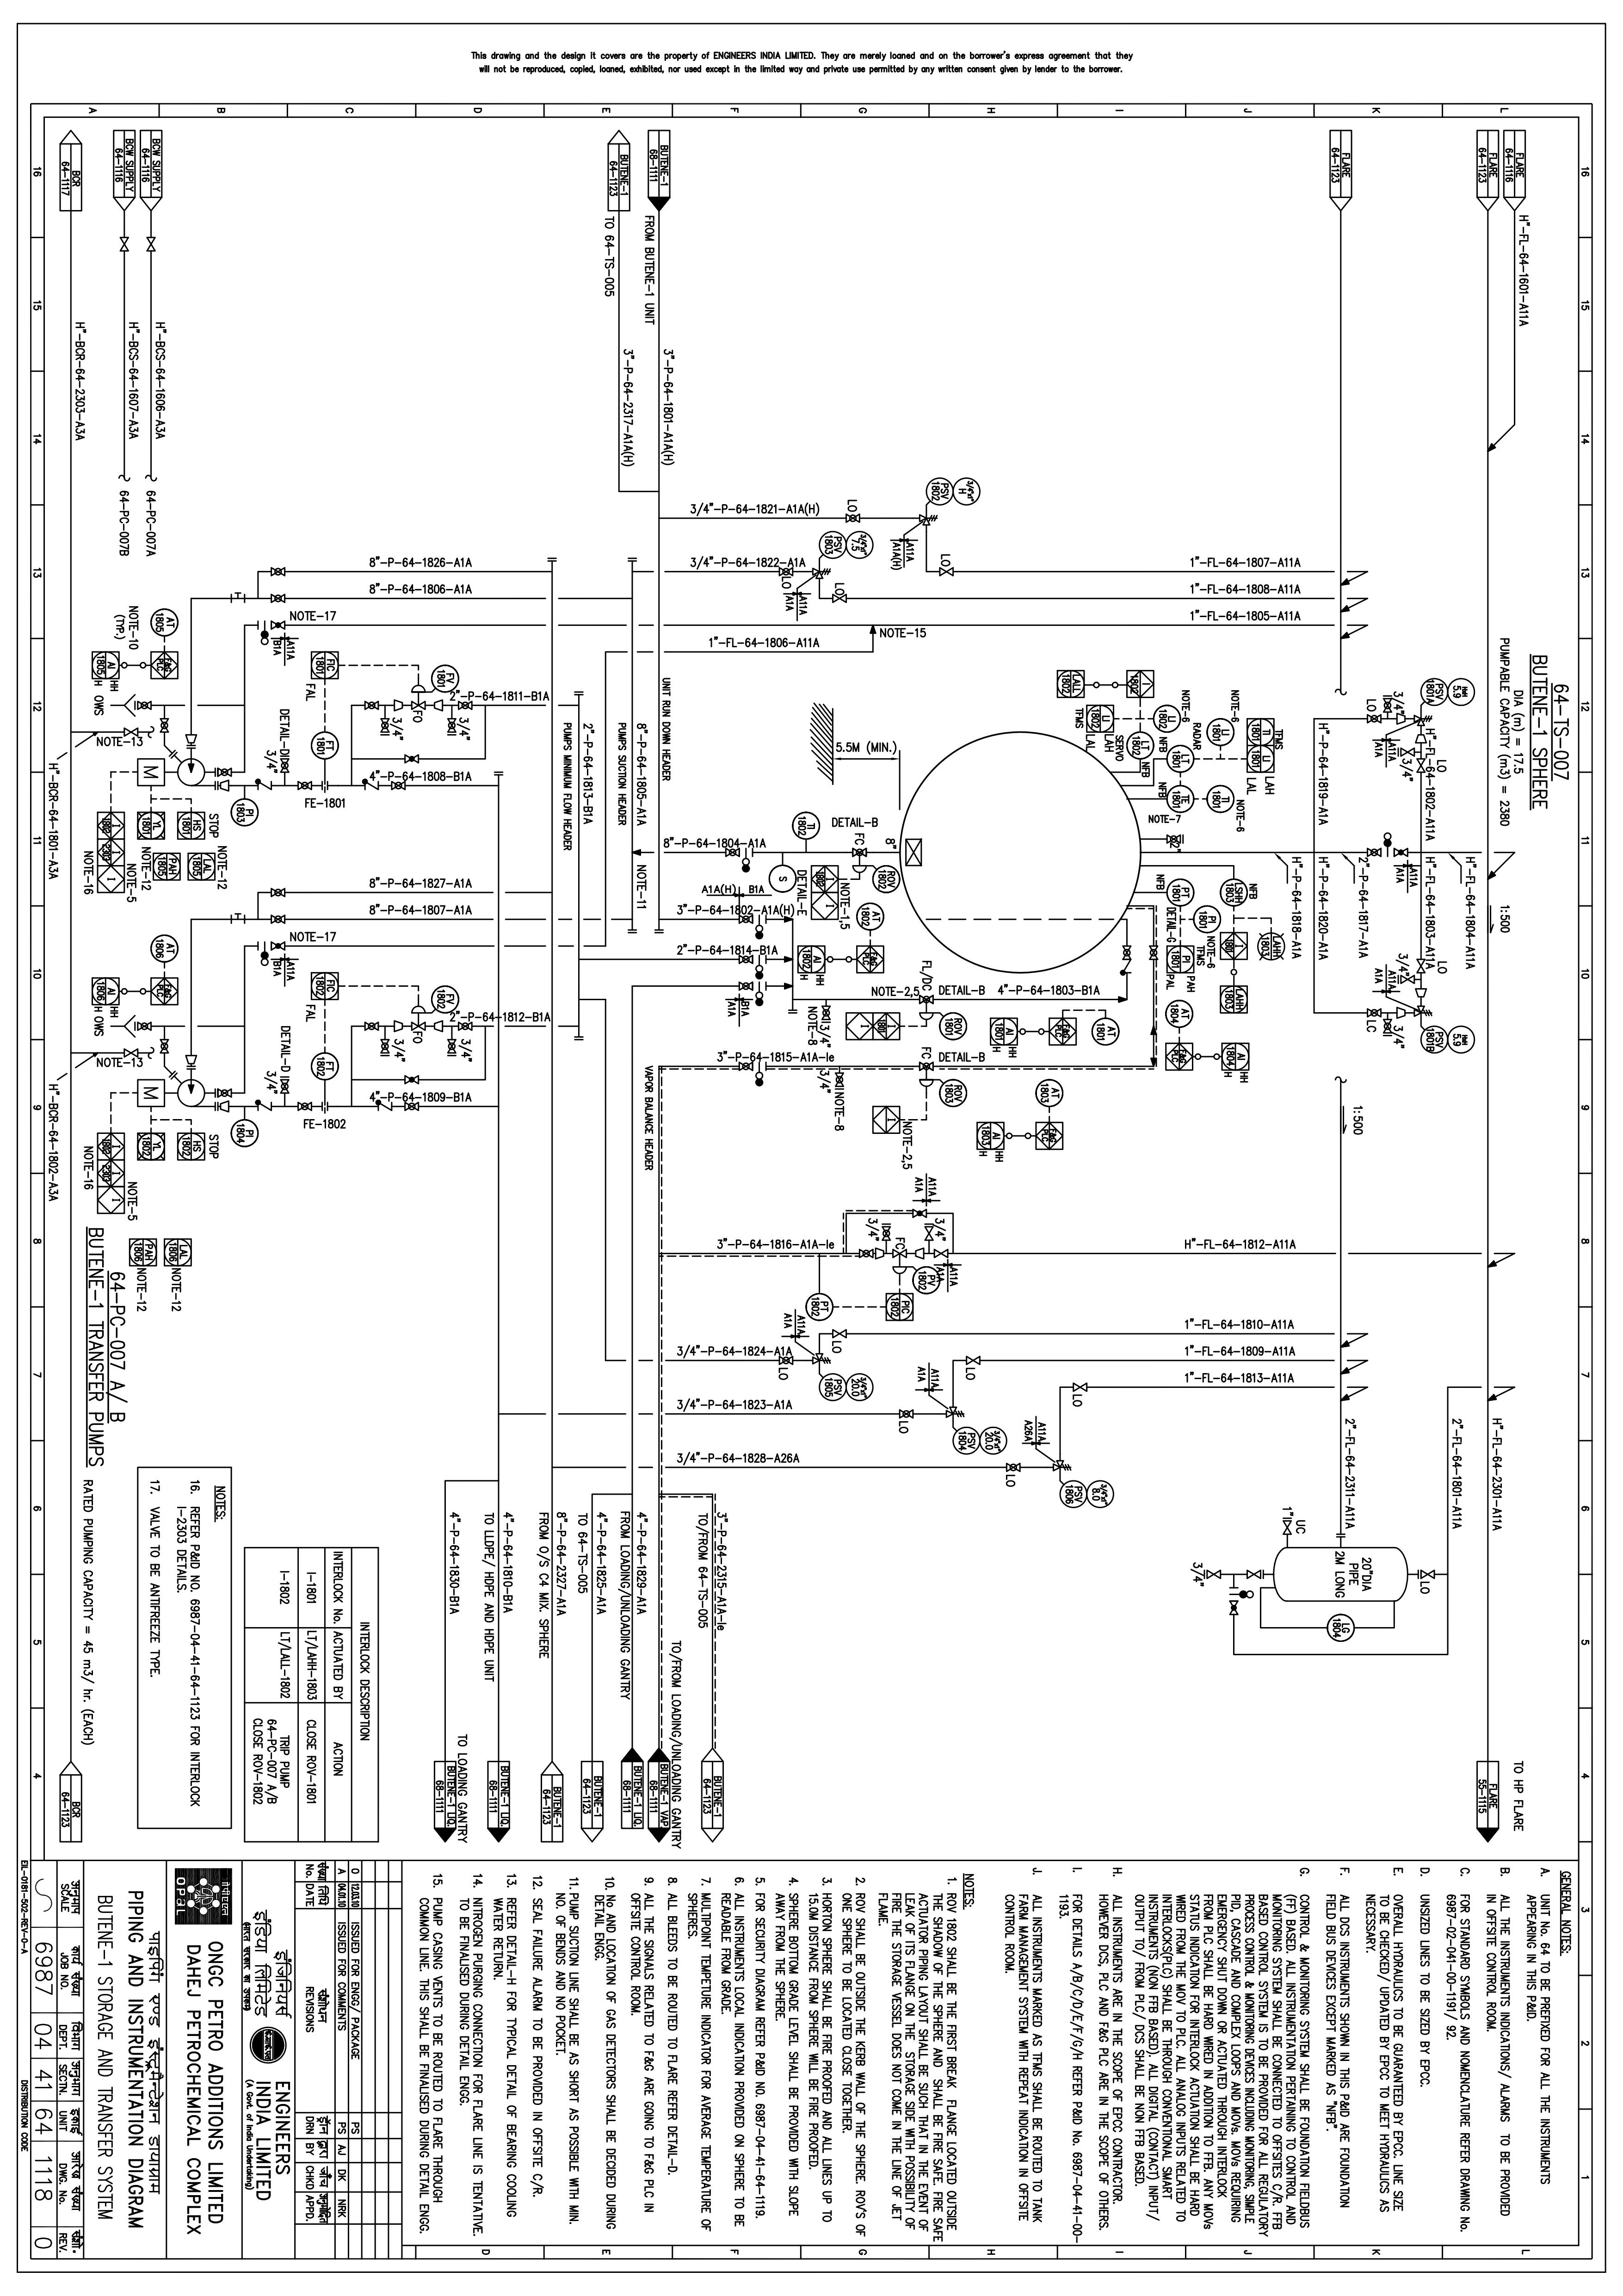ball valve: (274, 743, 299, 780), (912, 504, 945, 529), (1045, 1451, 1080, 1474), (1117, 942, 1138, 978), (265, 905, 293, 931), (112, 720, 144, 741), (854, 1242, 885, 1263), (204, 1098, 237, 1117), (263, 587, 292, 610), (1410, 708, 1439, 731), (130, 694, 160, 715), (826, 583, 852, 606), (889, 1261, 912, 1288), (1226, 1597, 1245, 1627), (112, 228, 133, 255), (155, 715, 176, 741), (931, 566, 963, 583), (263, 936, 295, 954), (425, 1015, 453, 1035), (957, 1347, 985, 1367), (141, 228, 158, 258), (847, 861, 876, 878), (919, 1221, 941, 1244), (183, 731, 204, 755), (399, 678, 436, 692), (263, 617, 292, 634), (211, 762, 239, 780), (209, 1082, 237, 1100), (824, 1325, 852, 1342), (1358, 841, 1386, 859), (829, 1068, 852, 1089), (181, 1051, 206, 1070), (441, 1036, 460, 1061), (371, 1096, 395, 1116), (1163, 827, 1187, 847), (132, 1019, 162, 1035), (209, 782, 235, 799), (1201, 1565, 1228, 1583), (262, 885, 293, 899), (940, 1405, 968, 1421), (293, 780, 318, 798), (355, 697, 385, 711), (996, 1460, 1026, 1474), (408, 1017, 430, 1035), (736, 912, 759, 929), (917, 1008, 940, 1026), (806, 1349, 829, 1367), (1365, 711, 1388, 729), (156, 1028, 170, 1056), (119, 1043, 144, 1059), (848, 845, 873, 861), (917, 993, 941, 1008), (293, 1098, 318, 1114), (279, 1073, 295, 1098), (915, 1075, 940, 1091), (889, 1247, 913, 1263), (889, 1405, 920, 1418), (1242, 1567, 1266, 1583), (808, 562, 829, 580), (878, 1219, 892, 1245), (360, 1019, 383, 1035), (736, 952, 759, 968), (406, 1001, 429, 1017), (908, 1203, 931, 1219), (1417, 1567, 1440, 1583), (385, 780, 413, 792), (453, 1019, 478, 1033), (402, 1073, 427, 1087), (379, 1035, 392, 1063), (402, 1103, 430, 1116), (1409, 733, 1433, 747), (1410, 1003, 1435, 1017), (388, 697, 408, 715), (736, 975, 755, 993), (267, 562, 288, 578), (411, 694, 427, 715), (1379, 692, 1395, 713), (1363, 1003, 1384, 1019), (1379, 1017, 1395, 1038), (718, 847, 745, 859), (1282, 1513, 1295, 1539), (444, 717, 458, 740), (1395, 747, 1417, 761), (771, 1356, 801, 1367), (457, 696, 474, 713), (1395, 1007, 1412, 1024), (429, 699, 448, 715), (1391, 711, 1410, 727), (1416, 754, 1428, 778), (1416, 952, 1428, 977), (1147, 942, 1159, 964), (1068, 1383, 1094, 1393), (780, 566, 799, 580), (1410, 986, 1430, 1000), (913, 1063, 938, 1073), (1389, 845, 1410, 857), (1395, 975, 1419, 986), (927, 1247, 950, 1258), (734, 1061, 754, 1072), (734, 993, 748, 1003), (919, 1386, 936, 1393)
